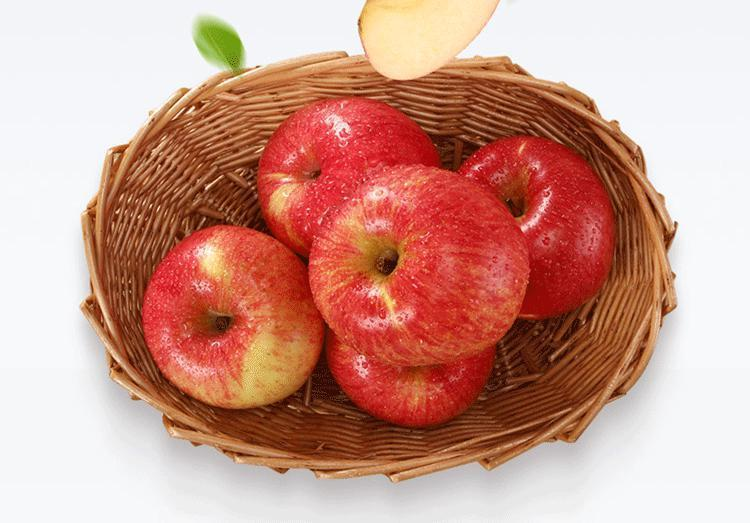apple: (308, 161, 531, 367), (139, 222, 325, 408), (452, 132, 615, 321), (253, 96, 438, 260), (325, 326, 500, 431)
